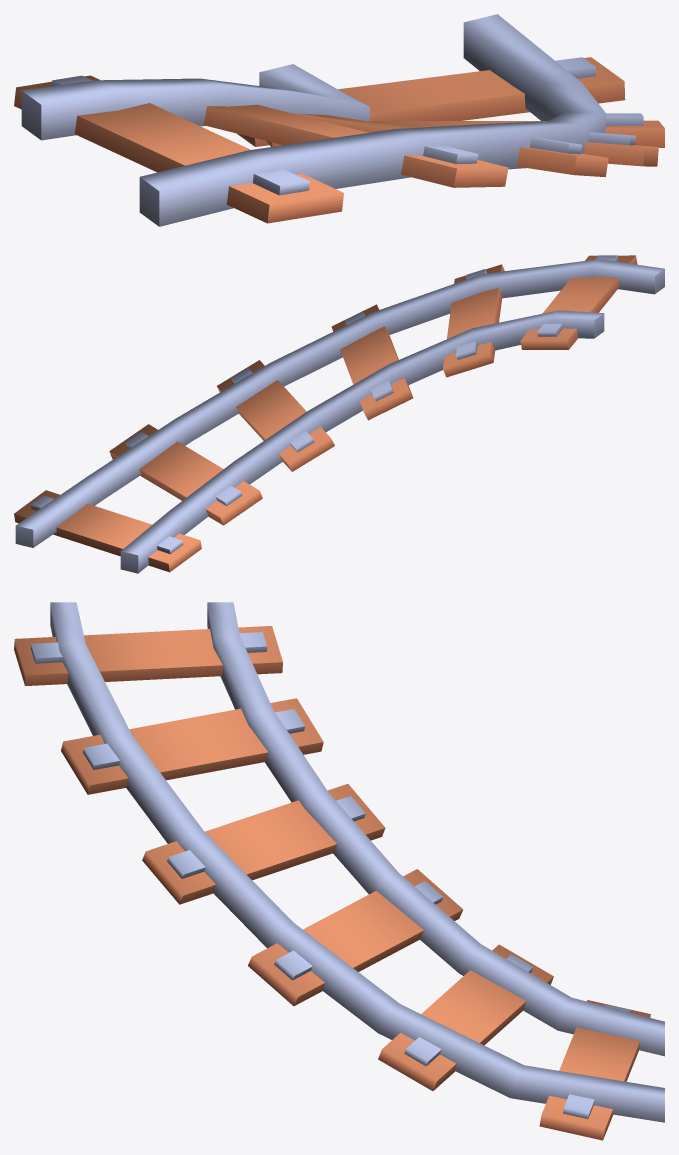
Rendered from kenney-train-railroad-corner-small-ramp.glb.
3 renders of one model, top to bottom at view 1: azimuth 30°, elevation 25°; view 2: azimuth 150°, elevation 25°; view 3: azimuth 270°, elevation 25°, orthographic. The views are drawn at different scales.
Parts seen in each view (by area): view 1: railroad-corner-small-ramp; view 2: railroad-corner-small-ramp; view 3: railroad-corner-small-ramp.
Part boxes in pixels (<box>): railroad-corner-small-ramp: <box>14,14,664,226</box>; railroad-corner-small-ramp: <box>14,255,664,573</box>; railroad-corner-small-ramp: <box>14,602,664,1140</box>.
Bounding box in the file's own units: 2.49 × 1.11 × 2.49.
Materials: 1 (1 with a texture image).
